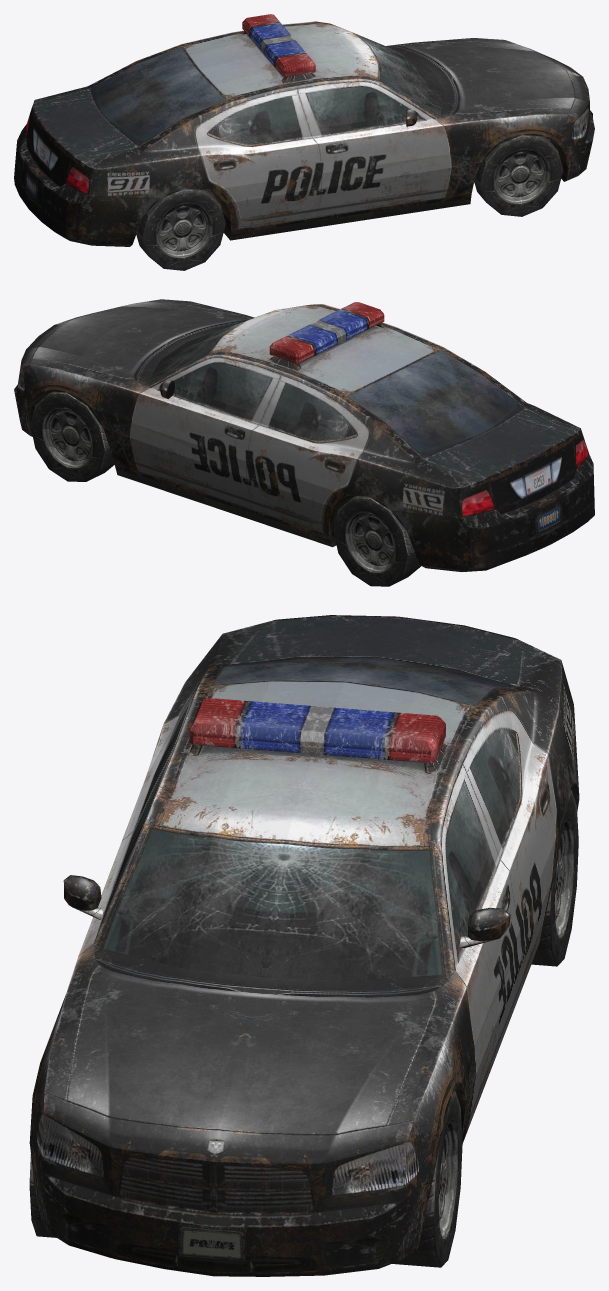
The model's file is Car_02.FBX.
3 renders of one model, top to bottom at view 1: azimuth 30°, elevation 25°; view 2: azimuth 150°, elevation 25°; view 3: azimuth 270°, elevation 25°, orthographic. The views are drawn at different scales.
Parts seen in each view (by area): view 1: Car_2; view 2: Car_2; view 3: Car_2.
Boxes of the visible parts, x1,y1,x2,y2 form: Car_2: (14,14,594,270); Car_2: (14,299,594,586); Car_2: (29,615,579,1276).
Bounding box in the file's own units: 768 × 240 × 354.
Materials: 1 (1 with a texture image).
